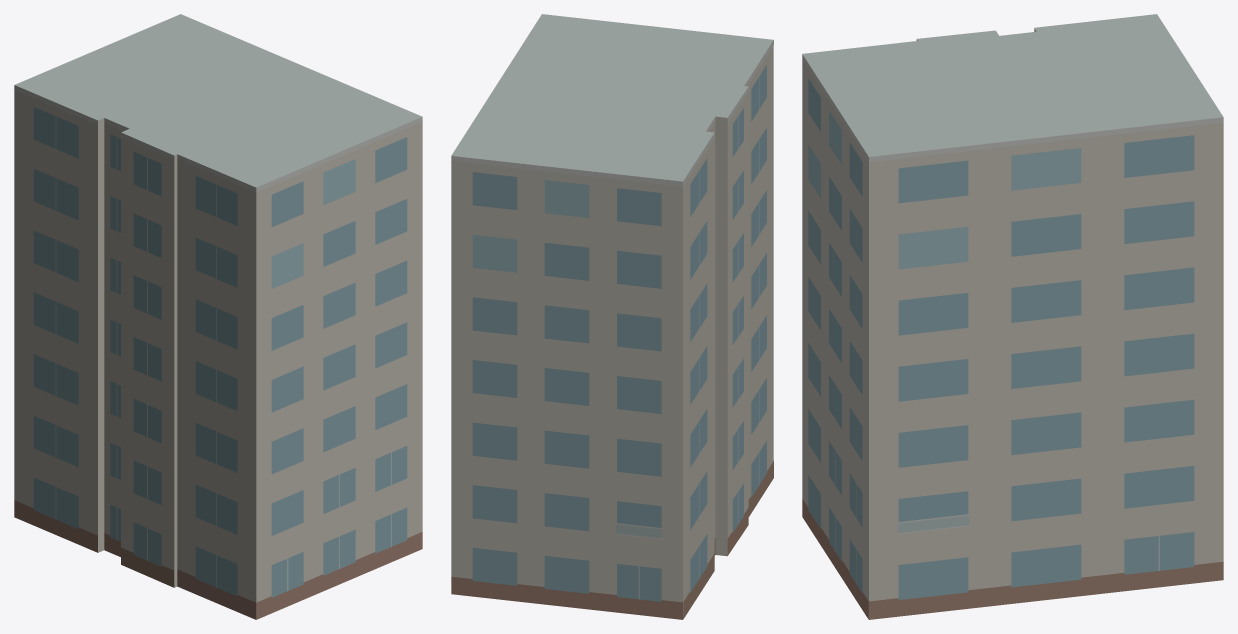
The model's file is survey-upis-32571107.glb.
The picture shows the model from 3 angles, left to right: view 1: azimuth 30°, elevation 25°; view 2: azimuth 150°, elevation 25°; view 3: azimuth 270°, elevation 25°; orthographic projection. The views are drawn at different scales.
Parts seen in each view (by area): view 1: survey-upis-32571107.tmp; view 2: survey-upis-32571107.tmp; view 3: survey-upis-32571107.tmp.
Boxes of the visible parts, x1,y1,x2,y2 form: survey-upis-32571107.tmp: (14,14,422,619); survey-upis-32571107.tmp: (451,14,773,619); survey-upis-32571107.tmp: (802,14,1223,619).
Bounding box in the file's own units: 14.16 × 21.35 × 17.63.
